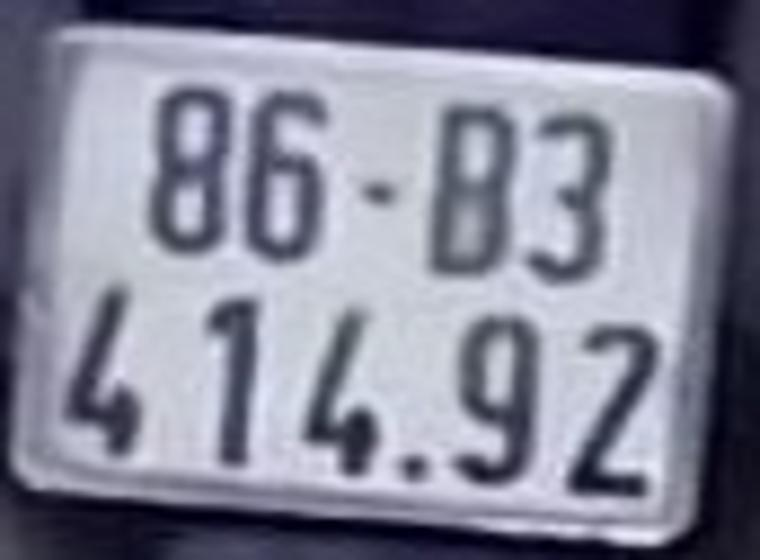-: (356, 177, 395, 207)
.: (400, 456, 426, 481)
1: (207, 291, 250, 465)
2: (571, 327, 652, 496)
3: (530, 114, 609, 286)
4: (304, 302, 379, 480), (66, 282, 141, 456)
6: (247, 84, 322, 259)
8: (150, 83, 227, 249)
9: (459, 311, 537, 484)
B: (431, 112, 517, 271)
